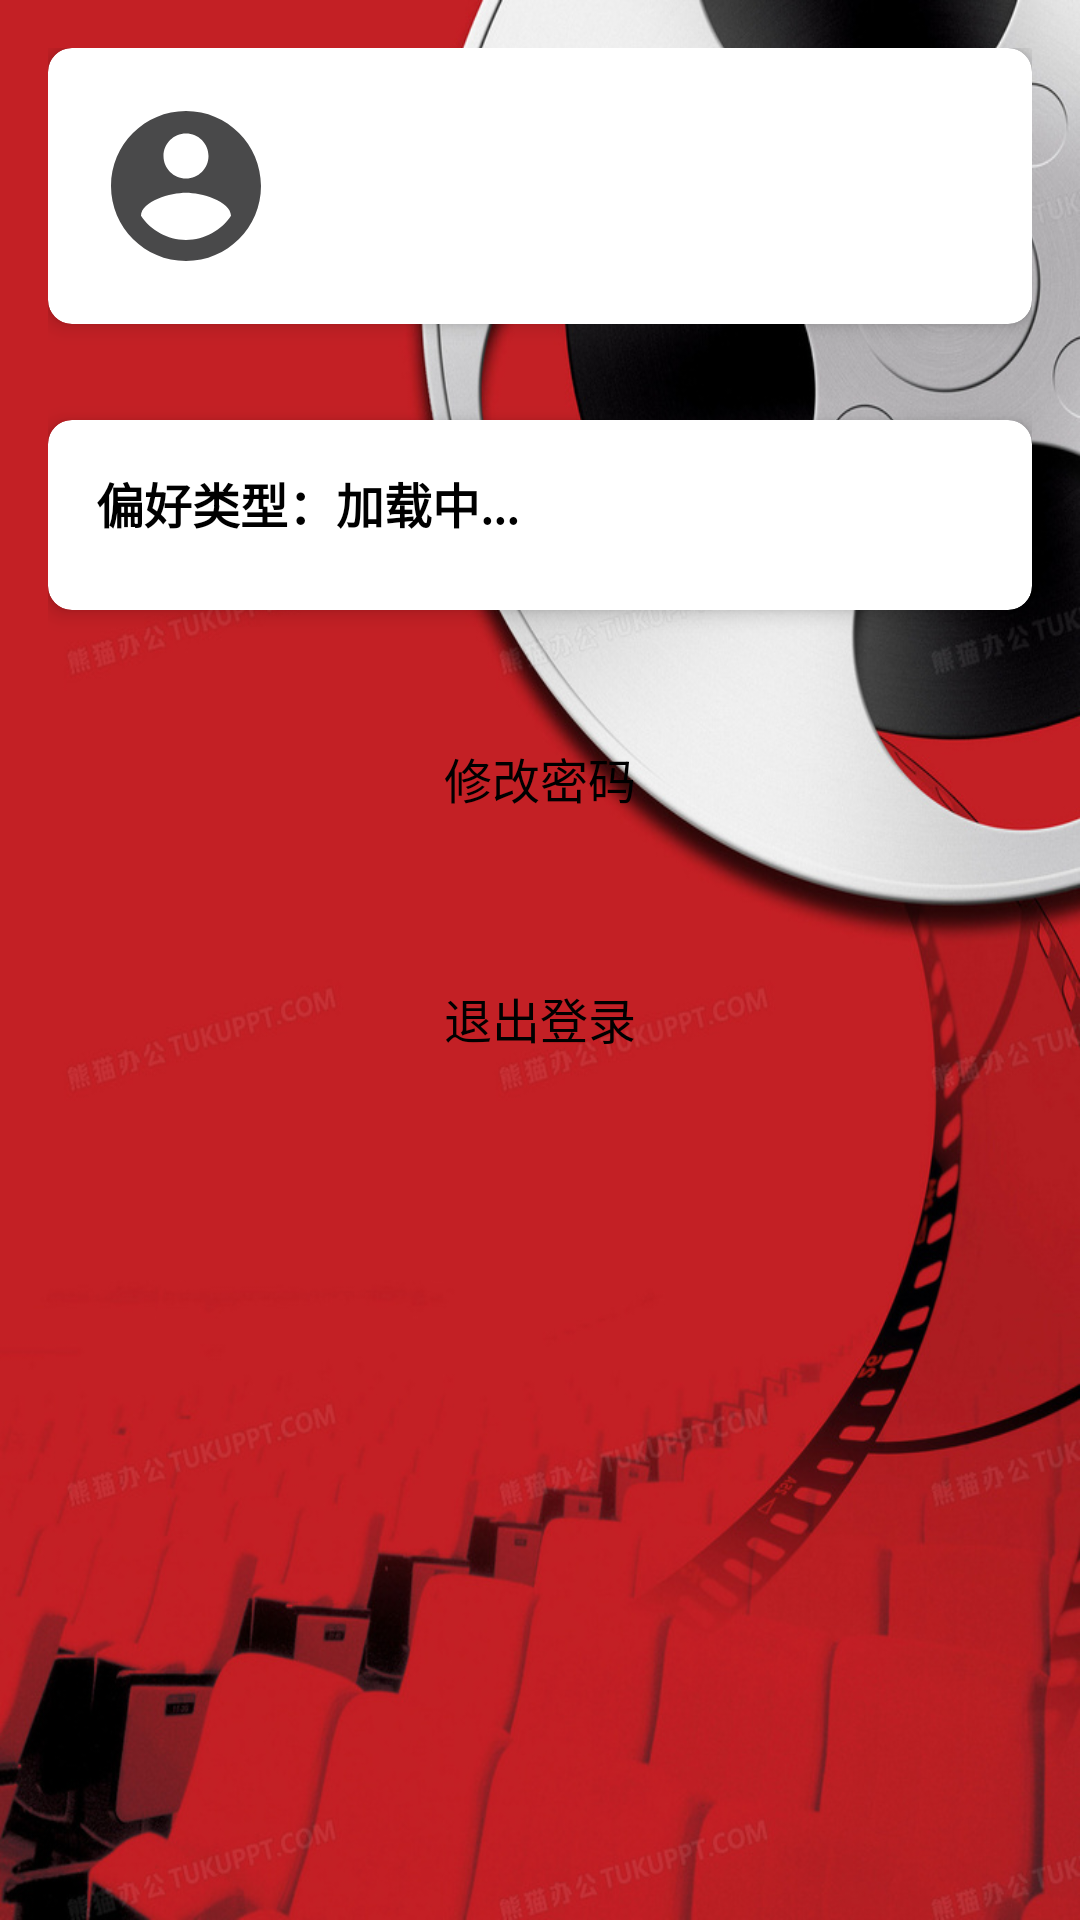

Icons on this 1080w x 1920h Android screen, each with the point to tap as (x=x, y=y):
account circle: (x=186, y=186)
